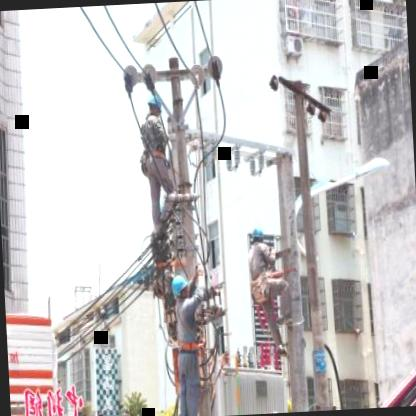helmet: (168, 272, 192, 304), (143, 87, 166, 119), (247, 221, 268, 252)
